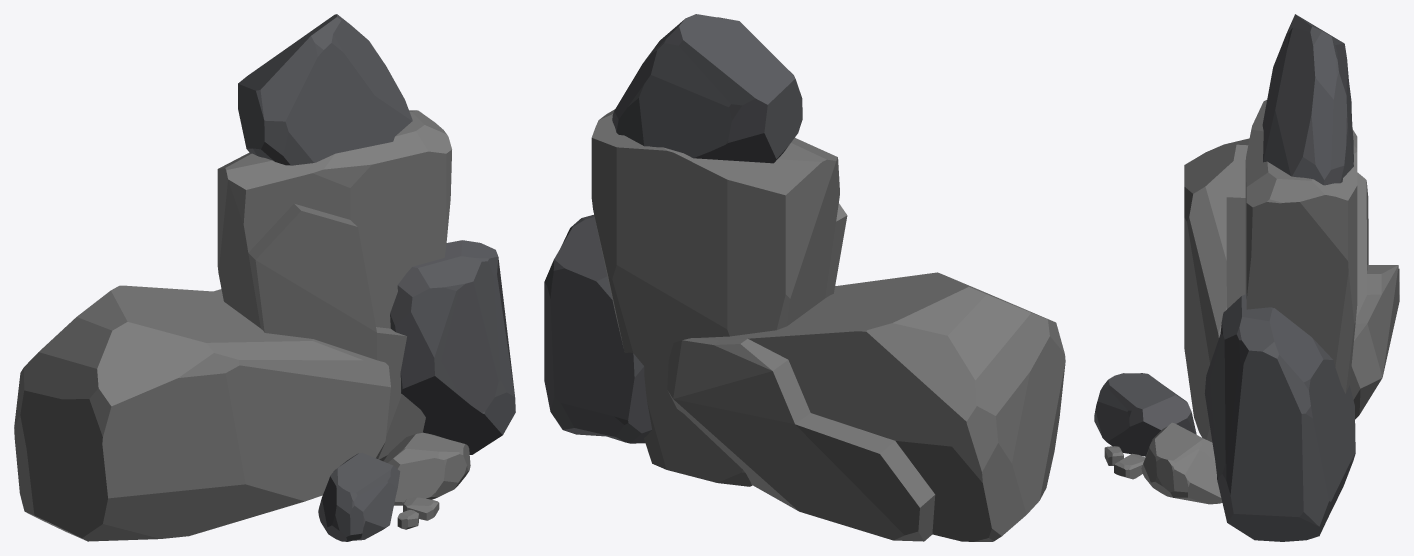
File: rocks_05.glb
3 renders of one model, left to right at view 1: azimuth 30°, elevation 25°; view 2: azimuth 150°, elevation 25°; view 3: azimuth 270°, elevation 25°, orthographic. The views are drawn at different scales.
Parts seen in each view (by area): view 1: rocks_05; view 2: rocks_05; view 3: rocks_05.
Boxes of the visible parts, x1,y1,x2,y2 form: rocks_05: (14, 14, 515, 541); rocks_05: (544, 14, 1065, 541); rocks_05: (1094, 14, 1399, 541).
Bounding box in the file's own units: 3.73 × 3.42 × 2.06.
Materials: 1 (1 with a texture image).
